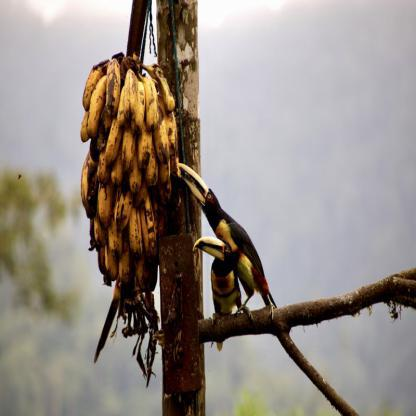banana_rotten: (76, 52, 185, 166)
